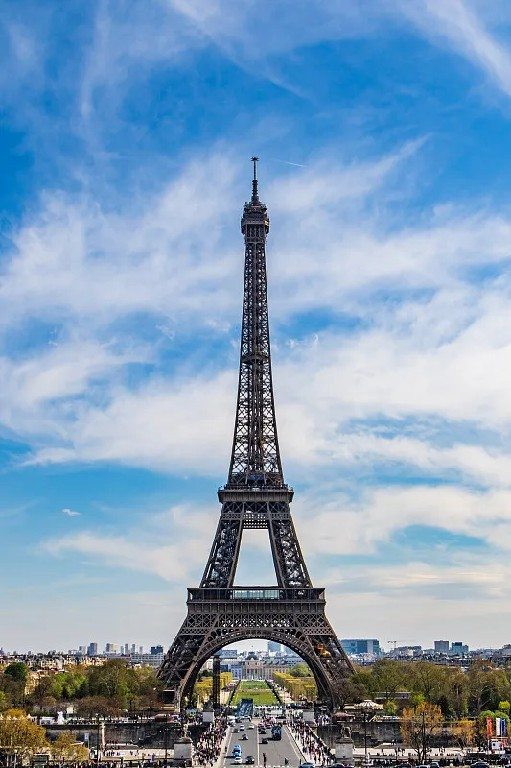Eiffel: (153, 157, 364, 710)
